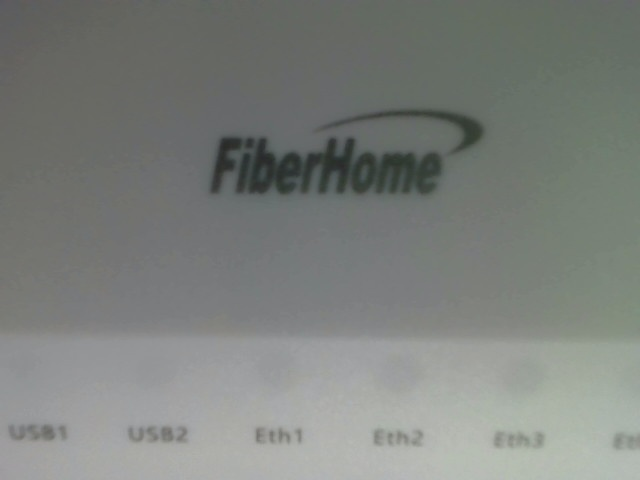AI_FiberHome: (187, 90, 495, 206)
